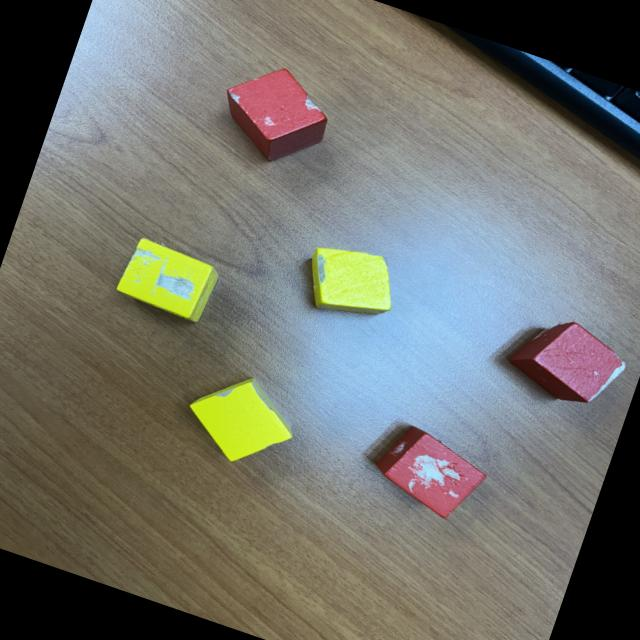broken: (208, 50, 340, 176), (176, 361, 308, 482), (500, 306, 632, 418), (364, 418, 492, 527), (295, 234, 406, 333), (111, 234, 222, 327)
